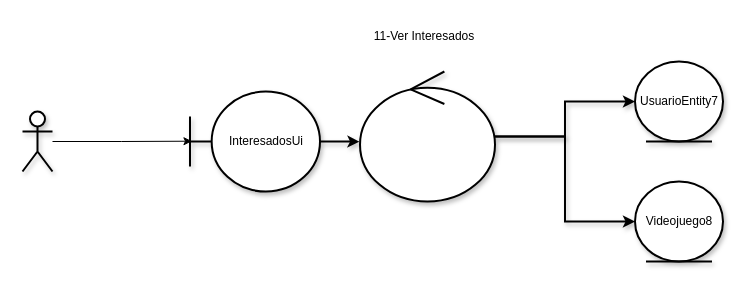
Some shapes in this 747 by 286 pixel diagram are drawn without their labels. The centre of each missing label's shape, as x and y in pixels:
"InteresadosAction" goes at (428,137).
"Usuario" goes at (38,142).
